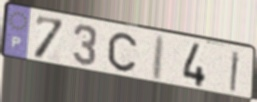3: (71, 23, 100, 69)
4: (181, 41, 207, 90)
7: (33, 14, 65, 61)
C: (106, 31, 138, 74)
I: (149, 34, 167, 84), (228, 50, 241, 94)
